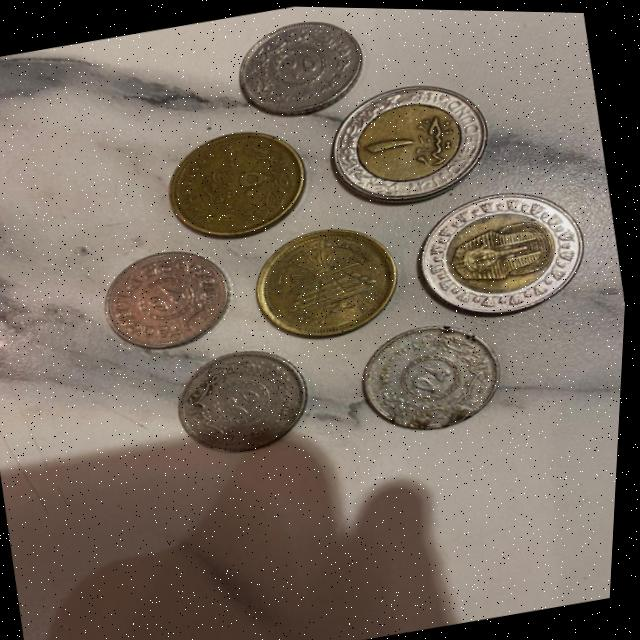Half Pound: (155, 112, 323, 252)
One Pound: (320, 72, 497, 206)
quarter pound: (217, 4, 377, 127)
